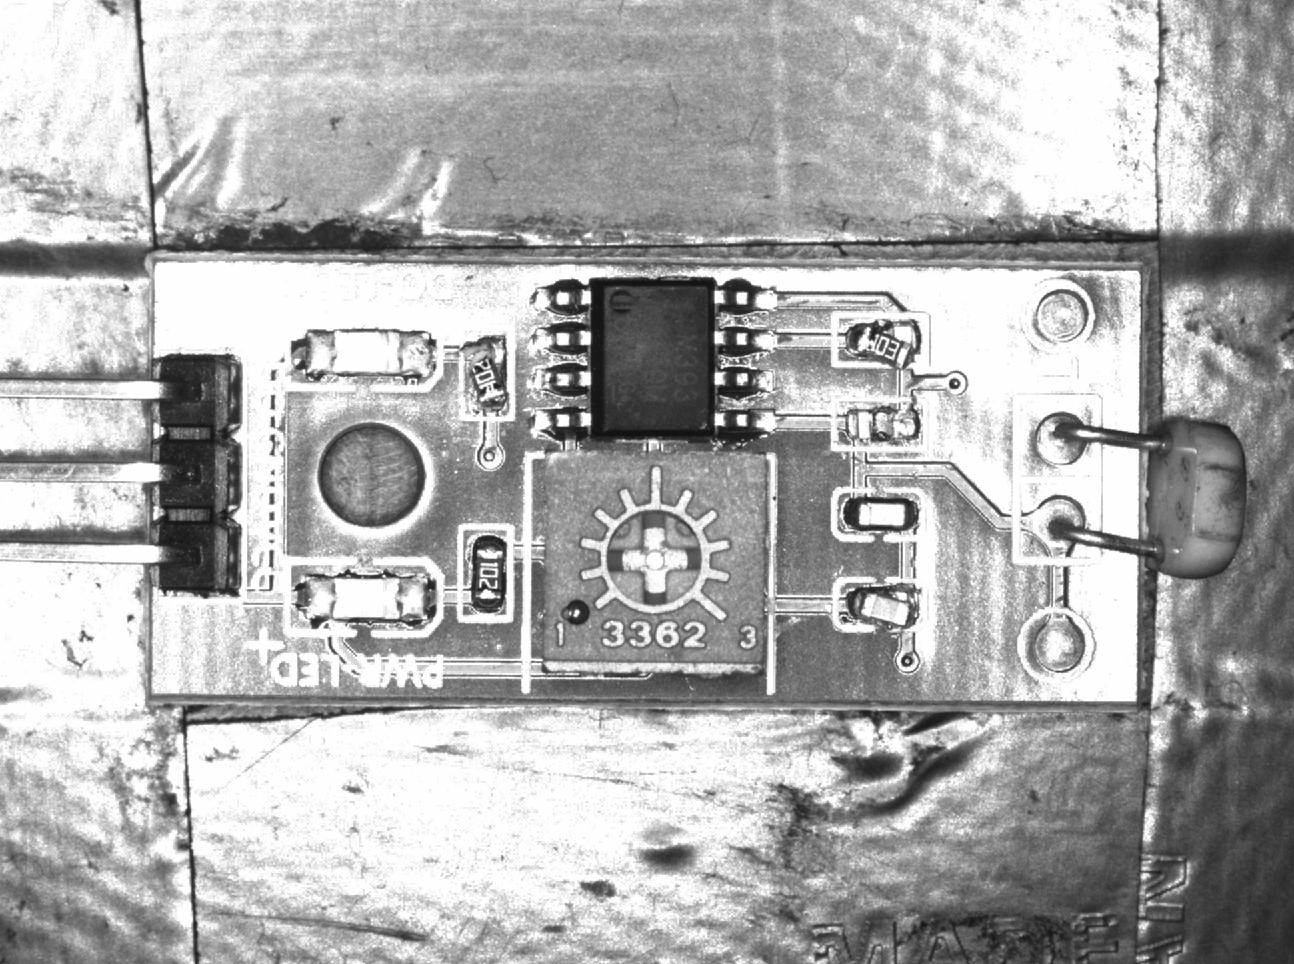lifted: (834, 314, 929, 372), (461, 323, 516, 418), (836, 580, 926, 635)
miss: (834, 399, 928, 449)
ok: (461, 524, 511, 619), (834, 488, 925, 541)
